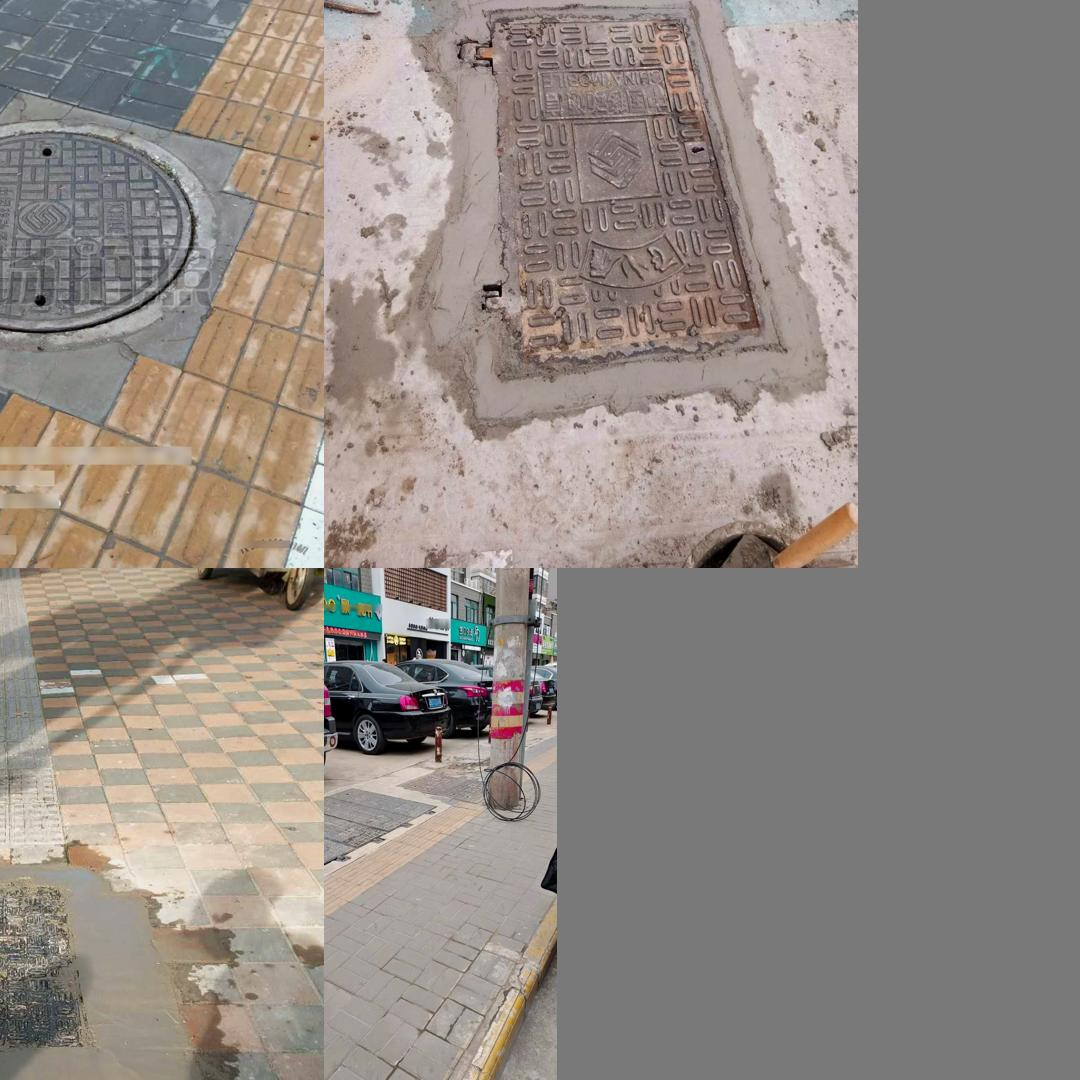good: (460, 3, 788, 371), (0, 120, 218, 351), (0, 880, 101, 1053), (324, 785, 438, 871), (398, 770, 487, 805)
